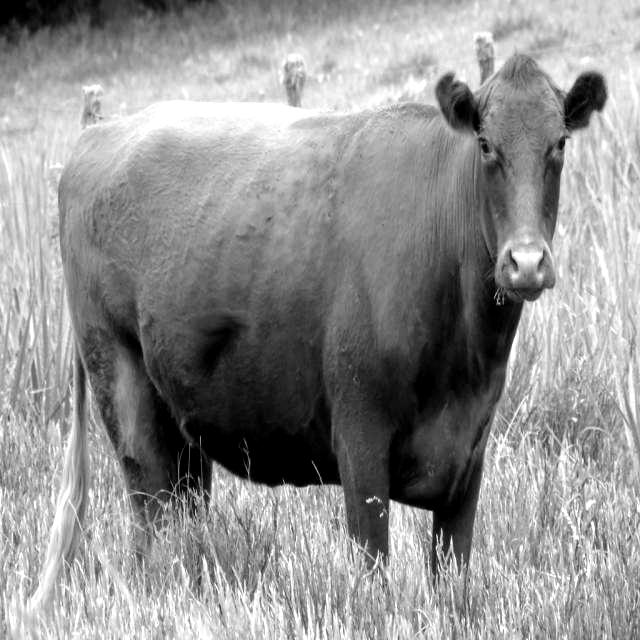COW: (41, 54, 605, 593)
